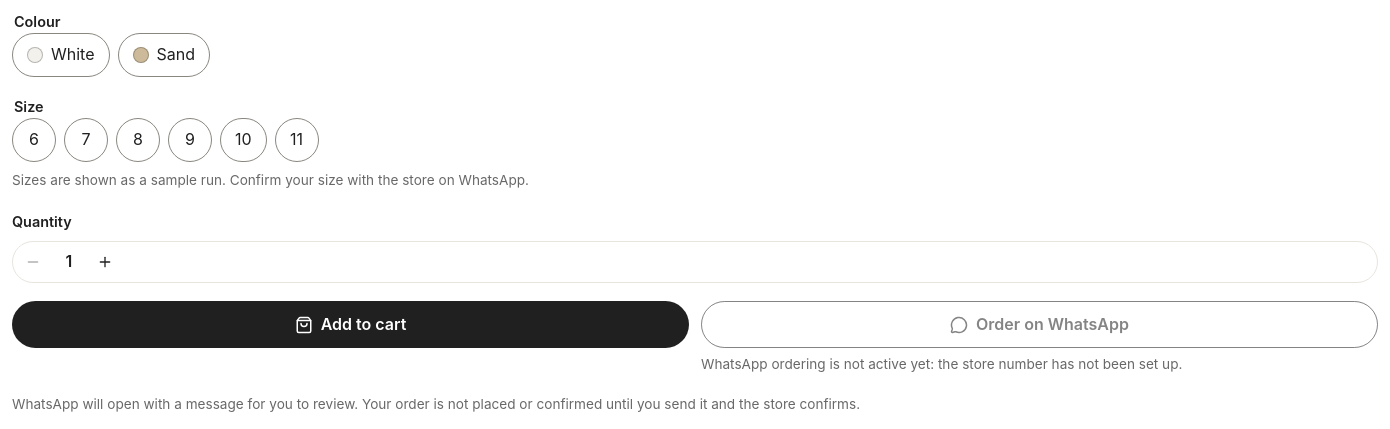
Scenario: ProductPurchase › disables a size that the selected colour does not offer
Click the radio button labelled "Sand".
click(164, 55)  # box [118,33,210,77]
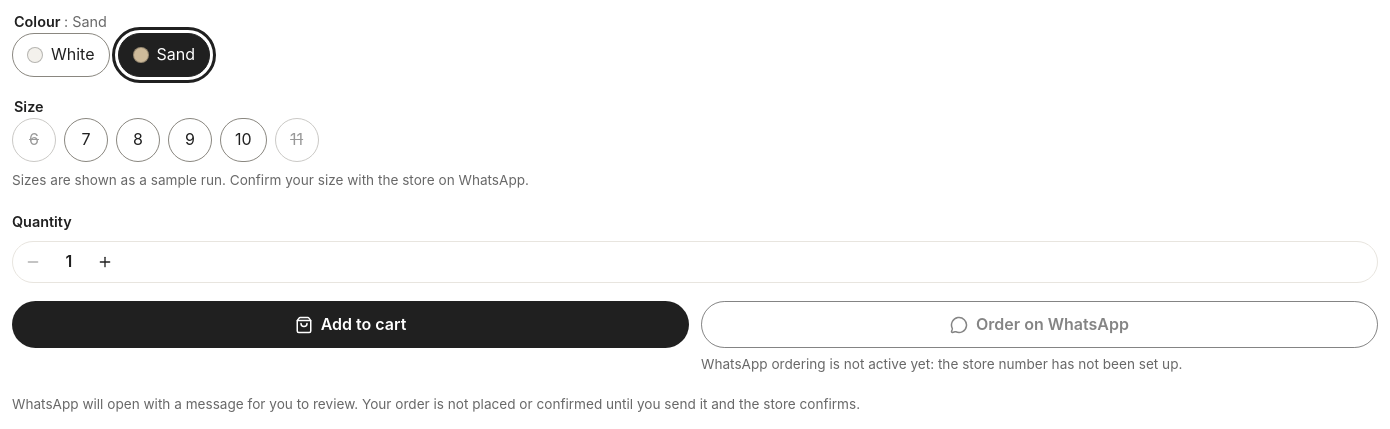
Expected: the radio button labelled "9" is enabled, [168,118,212,162]
Result: the radio button labelled "6" is disabled at [12,118,56,162]
